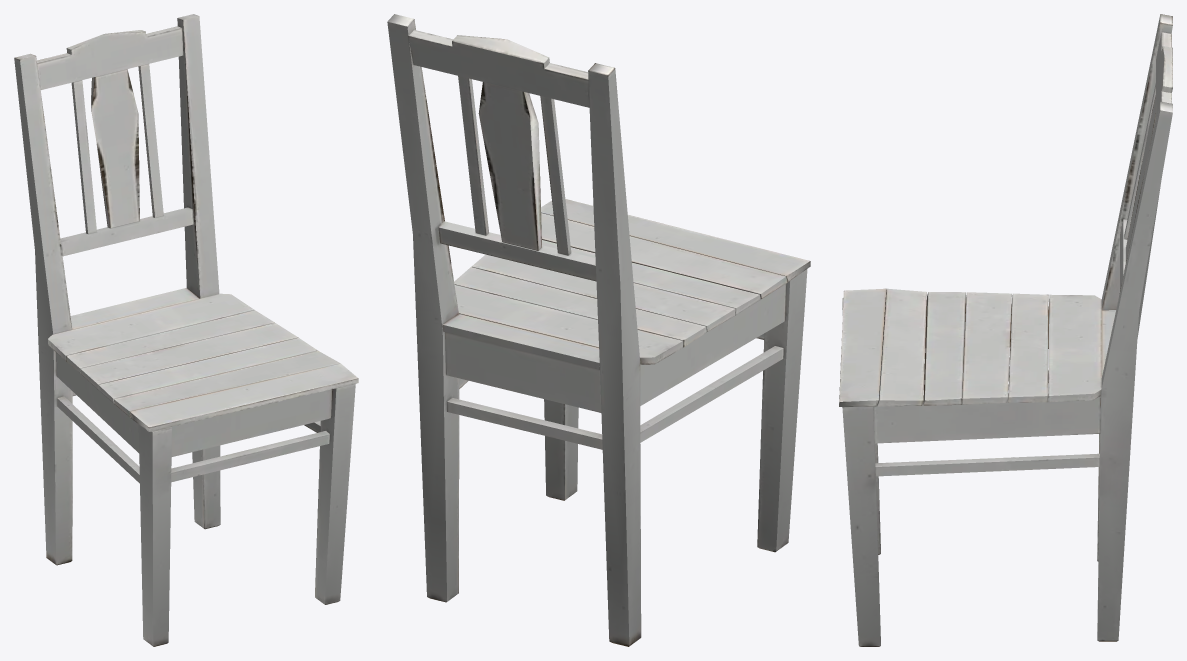
The model's file is painted_wooden_chair_01.glb.
3 views of the same model, side by side, from view 1: azimuth 30°, elevation 25°; view 2: azimuth 150°, elevation 25°; view 3: azimuth 270°, elevation 25° (orthographic). The views are drawn at different scales.
Parts seen in each view (by area): view 1: painted_wooden_chair_01; view 2: painted_wooden_chair_01; view 3: painted_wooden_chair_01.
Part boxes in pixels (x1,y1,x2,y2): painted_wooden_chair_01: [14, 14, 358, 646]; painted_wooden_chair_01: [387, 14, 810, 646]; painted_wooden_chair_01: [839, 14, 1172, 646].
Size of the model in its own units: 0.4238 by 0.9558 by 0.5357.
1 material, 1 textured.
